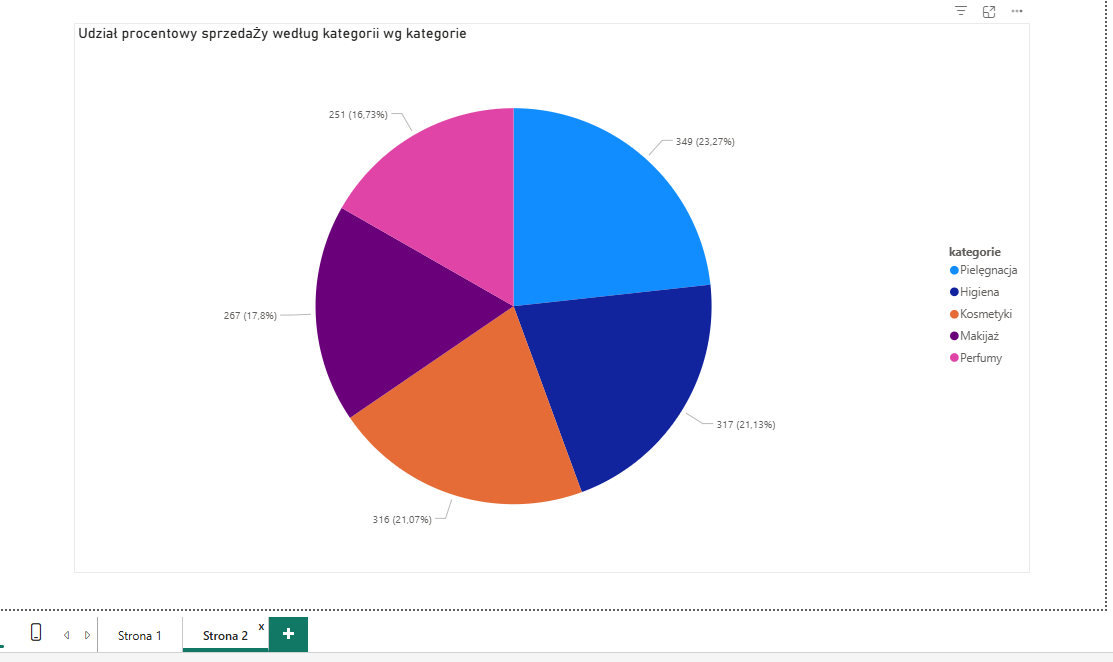

This screenshot's page, from the dashboard's own definition file:
{"tool":"powerbi","page":{"name":"Strona 2","canvas":[1280,720],"ordinal":1},"visuals":[{"type":"pieChart","fields":{"Category":["sales_data.category"],"Y":["Sum(sales_data.quantity)"]},"box":[86.8,41.7,1106.6,636.7],"z":3000}]}

Visuals, with their boxes on the page's 1280x720 design canvas (x1, y1, x2, y2). These are canvas units, not pixel positions in the 1113x662 screenshot, which may show the page scaled, cropped or inside an application window:
pieChart - sales_data.category x Sum(sales_data.quantity): box=[87, 42, 1193, 678]
